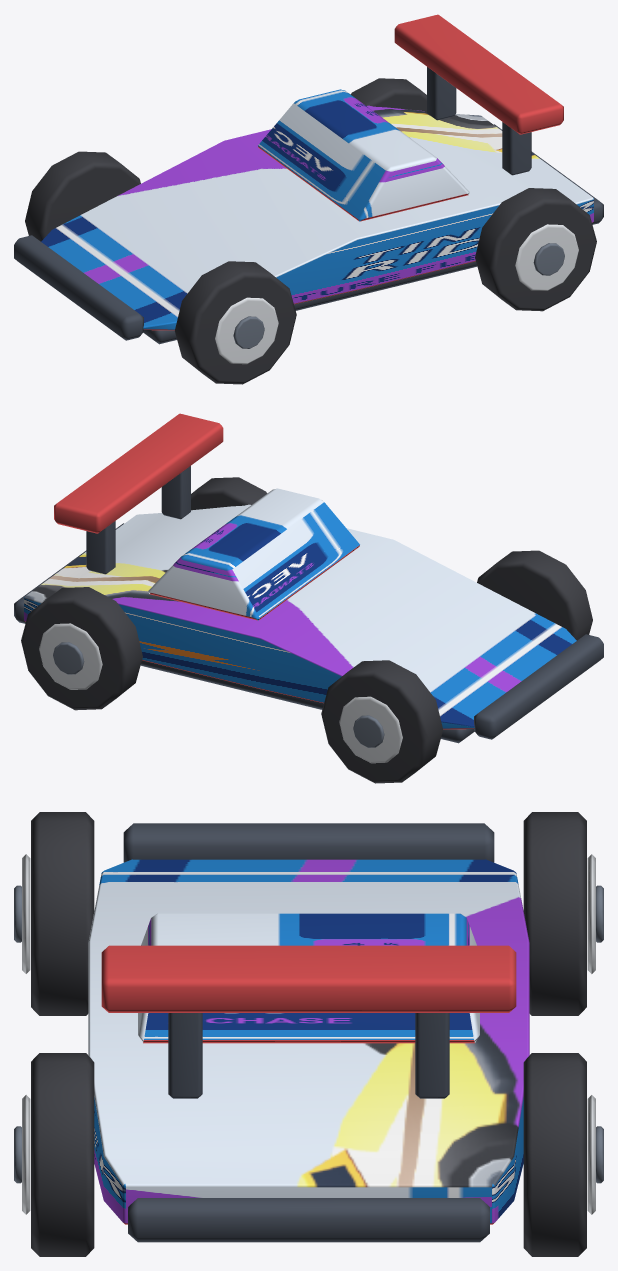
3 views of the same model, one above another, from view 1: azimuth 30°, elevation 25°; view 2: azimuth 150°, elevation 25°; view 3: azimuth 270°, elevation 25° (orthographic). The views are drawn at different scales.
Parts seen in each view (by area): view 1: FF-05_connected_shell, FF-05_cabin, rear airfoil, Tire.002, Tire, Tire.001, front bumper, Rim.002, Rim, Tire.003, underbody, wing support (+3 smaller); view 2: FF-05_connected_shell, FF-05_cabin, rear airfoil, Tire.003, Tire.001, Tire, front bumper, Rim.003, Rim.001, Tire.002, underbody, wing support.001 (+3 smaller); view 3: FF-05_connected_shell, rear airfoil, FF-05_cabin, rear bumper, front bumper, Tire.002, Tire.003, Tire, Tire.001, wing support, wing support.001, Rim (+3 smaller).
Boxes of the visible parts, x1,y1,x2,y2 form: FF-05_connected_shell: (41,105,593,330); FF-05_cabin: (258,89,469,221); rear airfoil: (394,14,563,134); Tire.002: (475,188,596,311); Tire: (175,261,296,384); Tire.001: (25,151,140,241); front bumper: (14,235,143,340); Rim.002: (515,224,578,290); Rim: (215,297,278,364); Tire.003: (350,78,426,111); underbody: (143,261,477,344); wing support: (502,122,531,175); FF-05_connected_shell: (24,504,576,729); FF-05_cabin: (148,488,359,620); rear airfoil: (54,413,223,533); Tire.003: (21,587,142,710); Tire.001: (321,660,442,783); Tire: (477,550,592,640); front bumper: (474,634,603,739); Rim.003: (39,623,102,689); Rim.001: (339,696,402,763); Tire.002: (191,477,267,510); underbody: (140,660,474,743); wing support.001: (86,521,115,574); FF-05_connected_shell: (88,859,529,1224); rear airfoil: (101,945,516,1012); FF-05_cabin: (138,913,479,1043); rear bumper: (128,1198,489,1242); front bumper: (123,823,494,862); Tire.002: (31,1053,94,1256); Tire.003: (523,1053,586,1256); Tire: (31,812,94,1015); Tire.001: (523,812,586,1015); wing support: (168,1013,202,1098); wing support.001: (415,1013,449,1098); Rim: (22,854,30,973).
Size of the model in its own units: 377 by 136 by 242.
